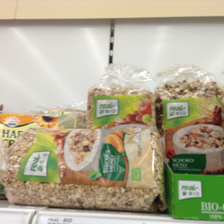cereal: (2, 125, 165, 214), (155, 81, 224, 174), (82, 83, 157, 130)
